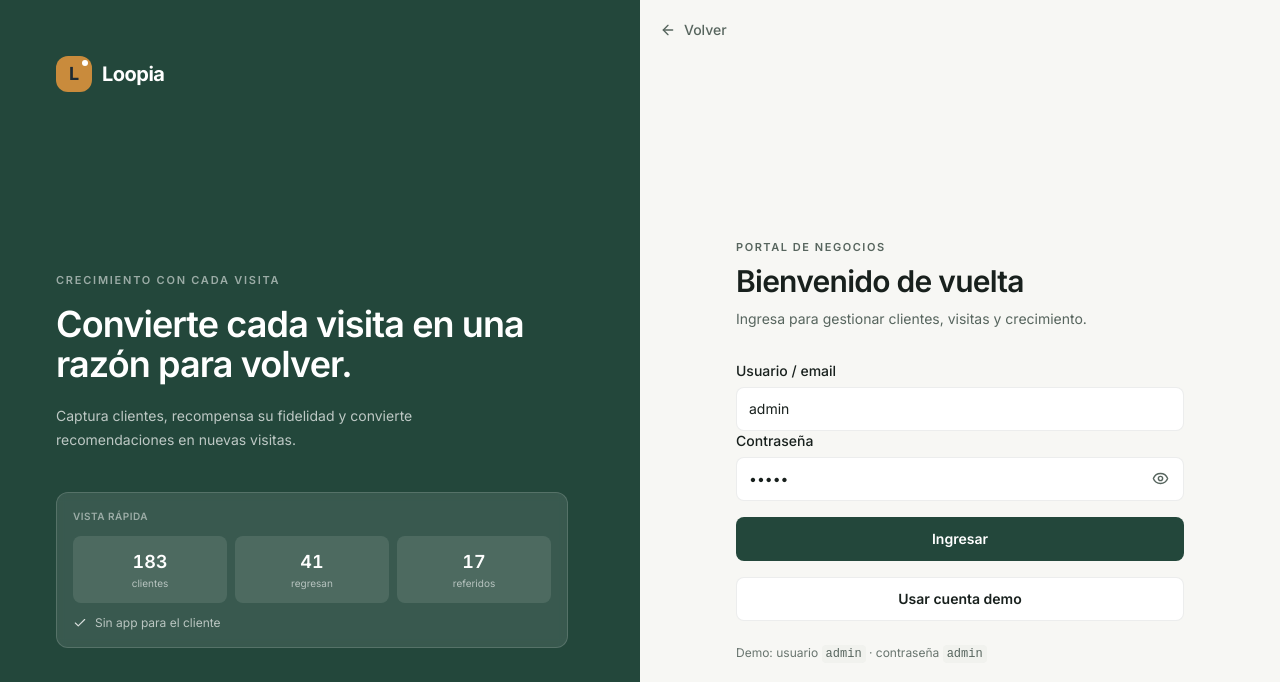
it: demo login opens dashboard
The width and height of the screenshot is (1280, 682).
Click the button "Usar cuenta demo": x=960, y=598 [736,576,1184,620]
(page scrolled)
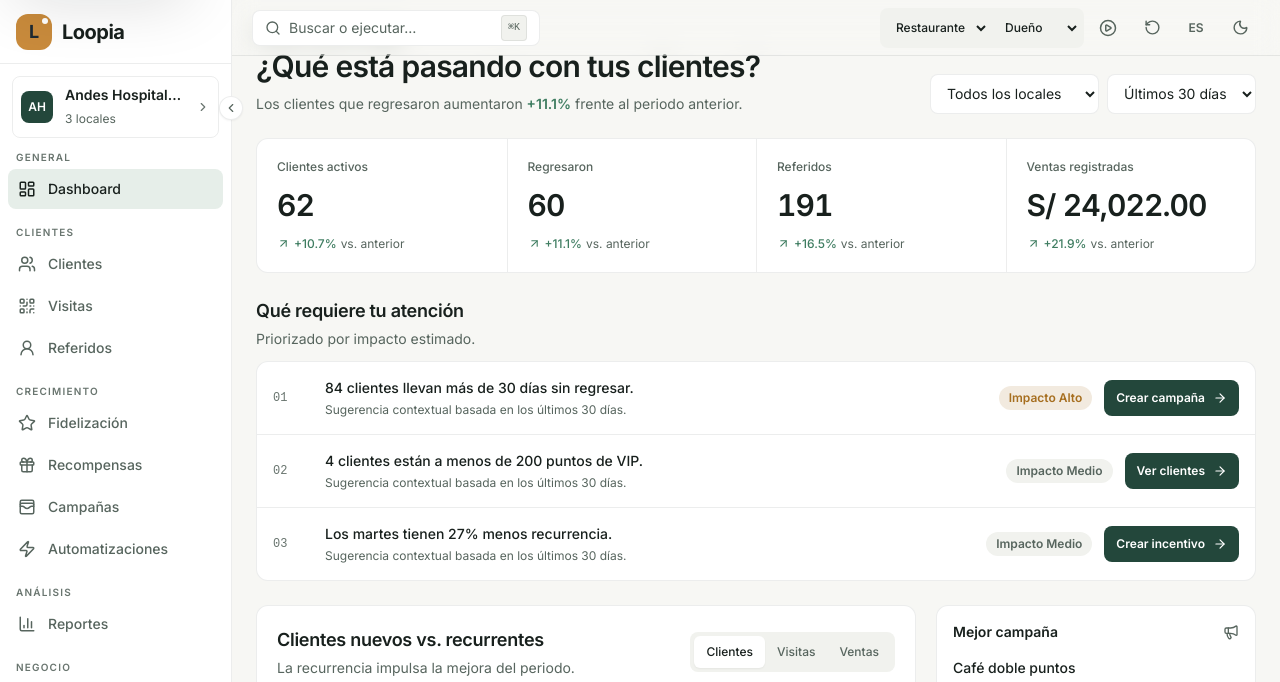
Check: the heading "¿Qué está pasando con tus clientes?" is shown, box [256,48,760,86]
